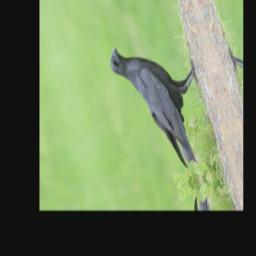Crow: (105, 26, 222, 184)
